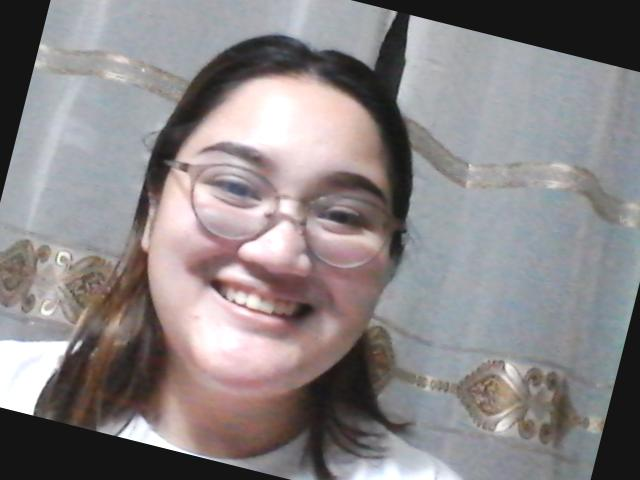senang: (127, 72, 436, 430)
